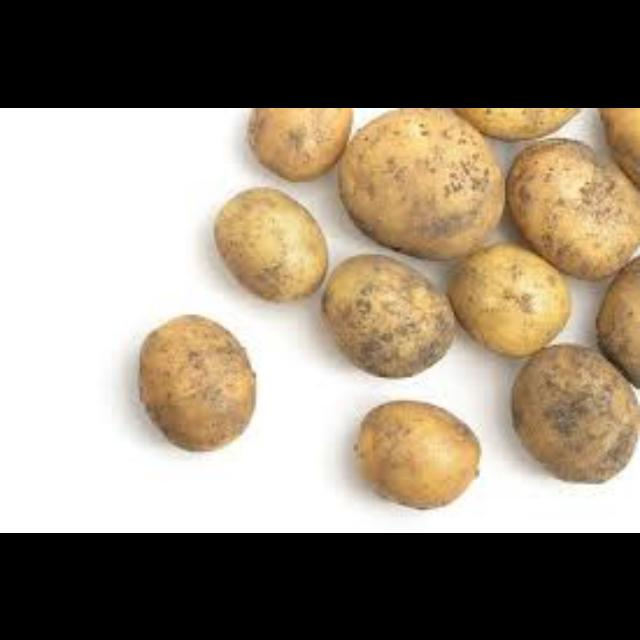Damaged potato: (350, 399, 490, 509)
Diseased-fungal potato: (338, 110, 508, 260), (514, 342, 640, 484), (324, 254, 458, 376), (136, 316, 250, 448), (207, 189, 335, 301)
